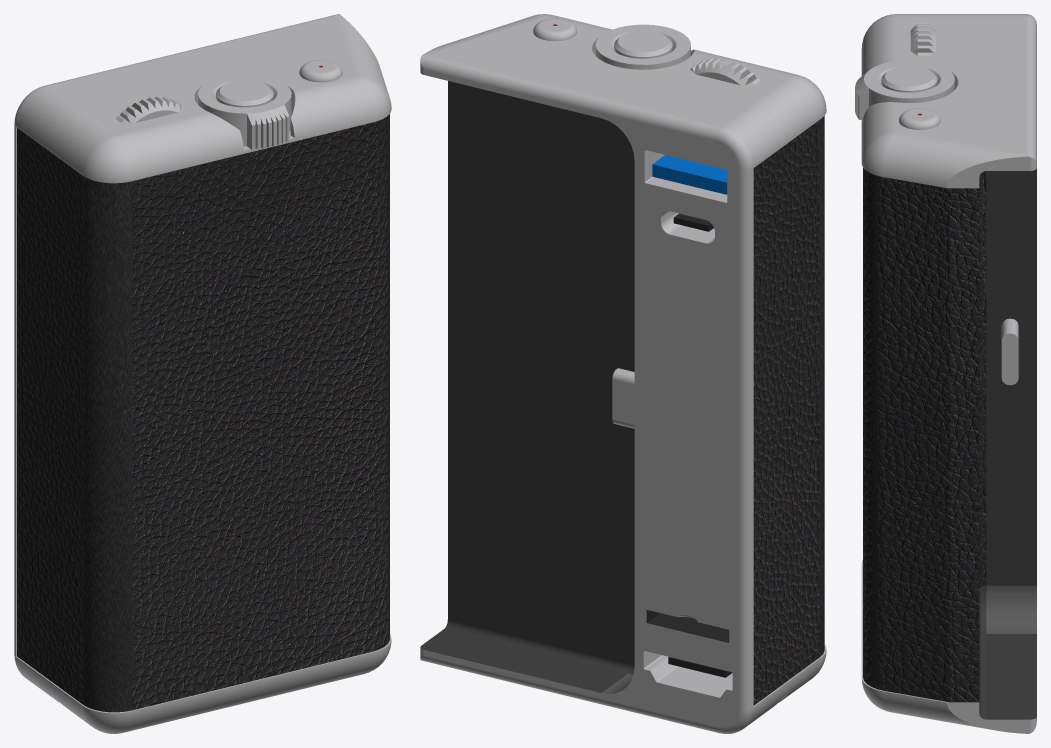
The model's file is grip.glb.
3 renders of one model, left to right at view 1: azimuth 30°, elevation 25°; view 2: azimuth 150°, elevation 25°; view 3: azimuth 270°, elevation 25°, orthographic. The views are drawn at different scales.
Parts seen in each view (by area): view 1: grip; view 2: grip; view 3: grip.
Boxes of the visible parts, left/top/right/bottom form: grip: left=14, top=14, right=391, bottom=733; grip: left=420, top=14, right=826, bottom=733; grip: left=855, top=14, right=1036, bottom=733.
Bounding box in the file's own units: 0.052 × 0.093 × 0.0259.
Materials: 9 (2 with a texture image).
